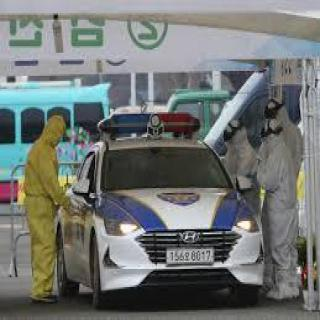Police_car: (56, 110, 266, 298)
